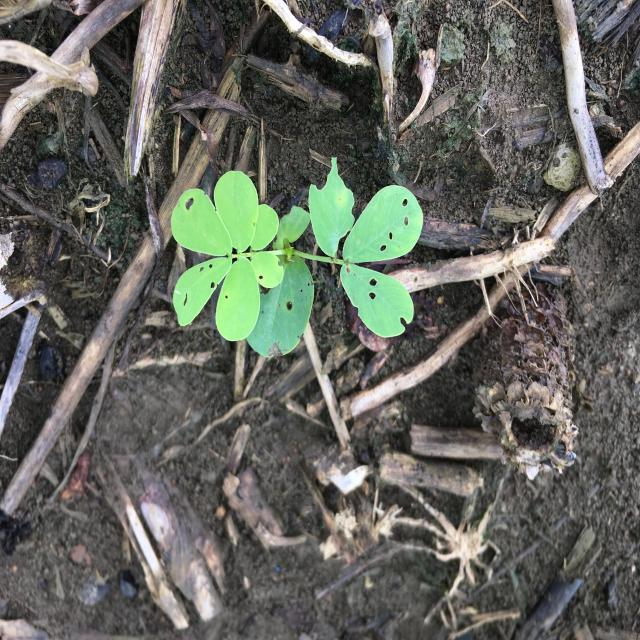Sicklepod: (171, 156, 424, 358)
